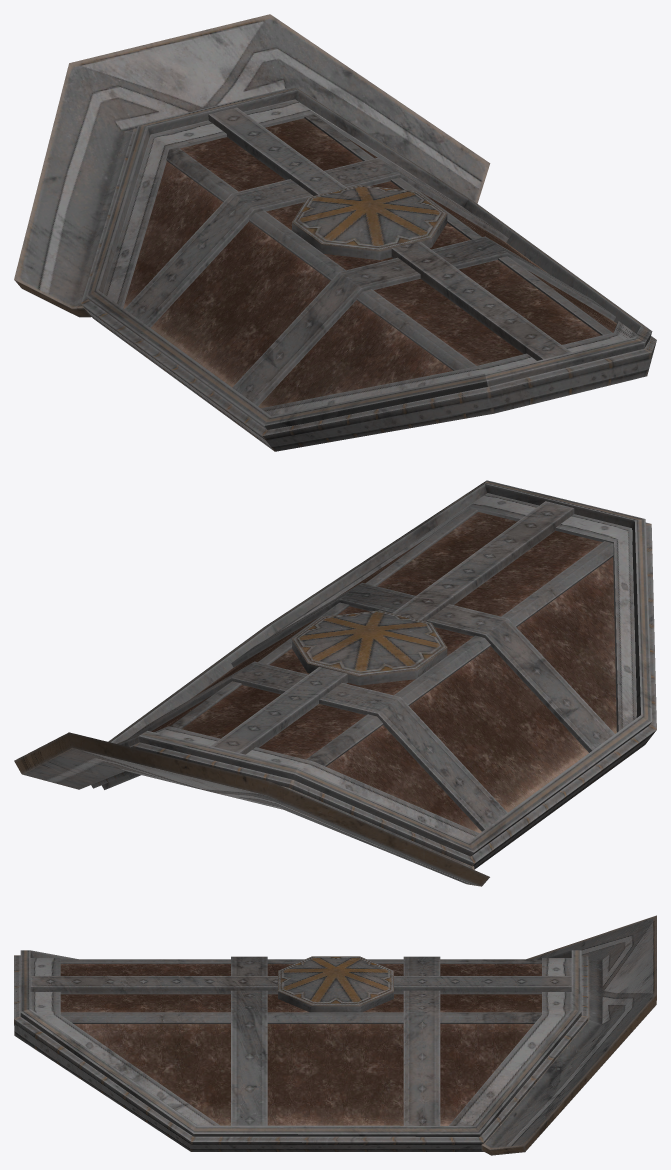
Rendered from sm_dwarf_erebor_shield_tower_e.fbx.
3 renders of one model, top to bottom at view 1: azimuth 30°, elevation 25°; view 2: azimuth 150°, elevation 25°; view 3: azimuth 270°, elevation 25°, orthographic. The views are drawn at different scales.
Parts seen in each view (by area): view 1: sm_dwarf_erebor_shield_tower_e; view 2: sm_dwarf_erebor_shield_tower_e; view 3: sm_dwarf_erebor_shield_tower_e.
Part boxes in pixels (<box>): sm_dwarf_erebor_shield_tower_e: <box>14,14,656,451</box>; sm_dwarf_erebor_shield_tower_e: <box>14,480,656,886</box>; sm_dwarf_erebor_shield_tower_e: <box>14,915,656,1155</box>.
Bounding box in the file's own units: 0.7982 × 1.16 × 0.2508.
1 material, 1 textured.
